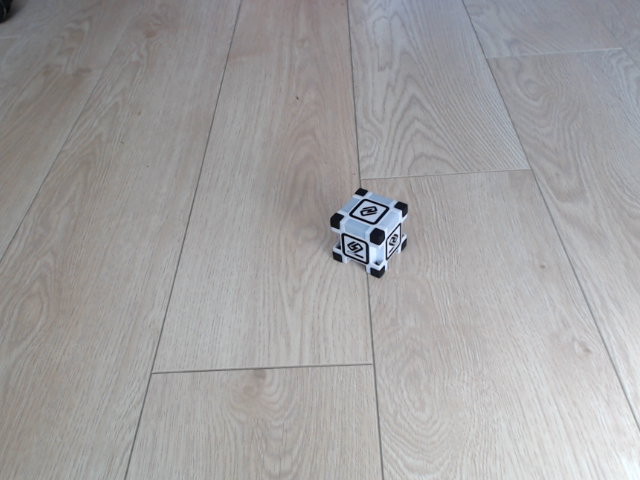block: (329, 186, 411, 279)
